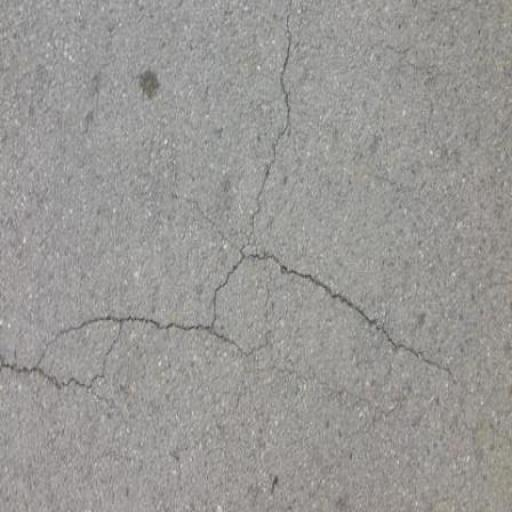spalling: (9, 227, 462, 401), (227, 29, 325, 249)
